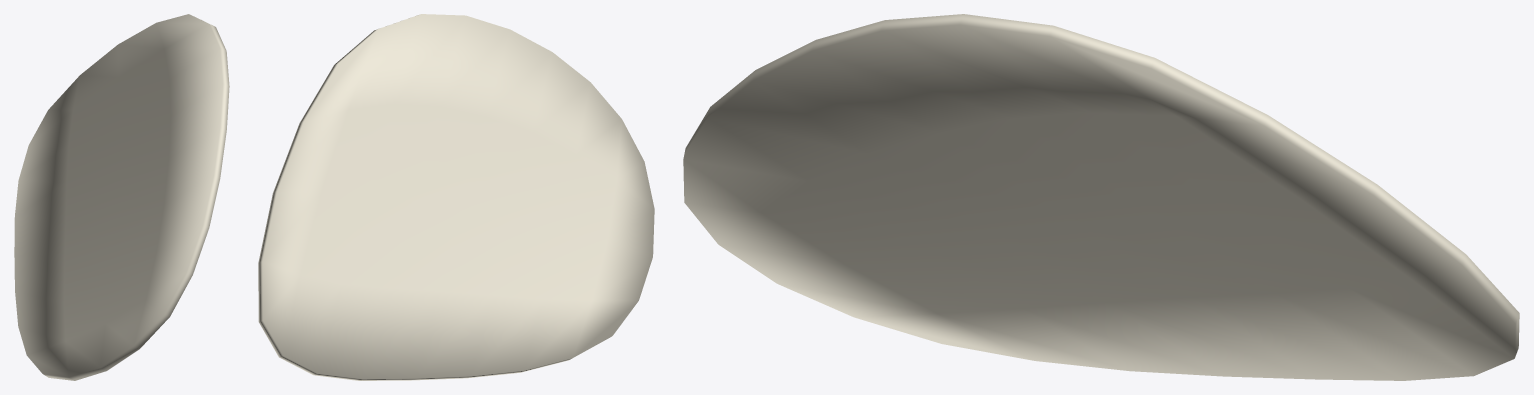
The picture shows the model from 3 angles, left to right: view 1: azimuth 30°, elevation 25°; view 2: azimuth 150°, elevation 25°; view 3: azimuth 270°, elevation 25°; orthographic projection. The views are drawn at different scales.
Parts seen in each view (by area): view 1: ZA_f6dee78bae208f4d; view 2: ZA_f6dee78bae208f4d; view 3: ZA_f6dee78bae208f4d.
Boxes of the visible parts, box(x1,y1,x2,y2) form: ZA_f6dee78bae208f4d: box(14, 14, 229, 380); ZA_f6dee78bae208f4d: box(258, 14, 654, 380); ZA_f6dee78bae208f4d: box(683, 14, 1519, 380).
Size of the model in its own units: 0.0156 by 0.0199 by 0.031.
